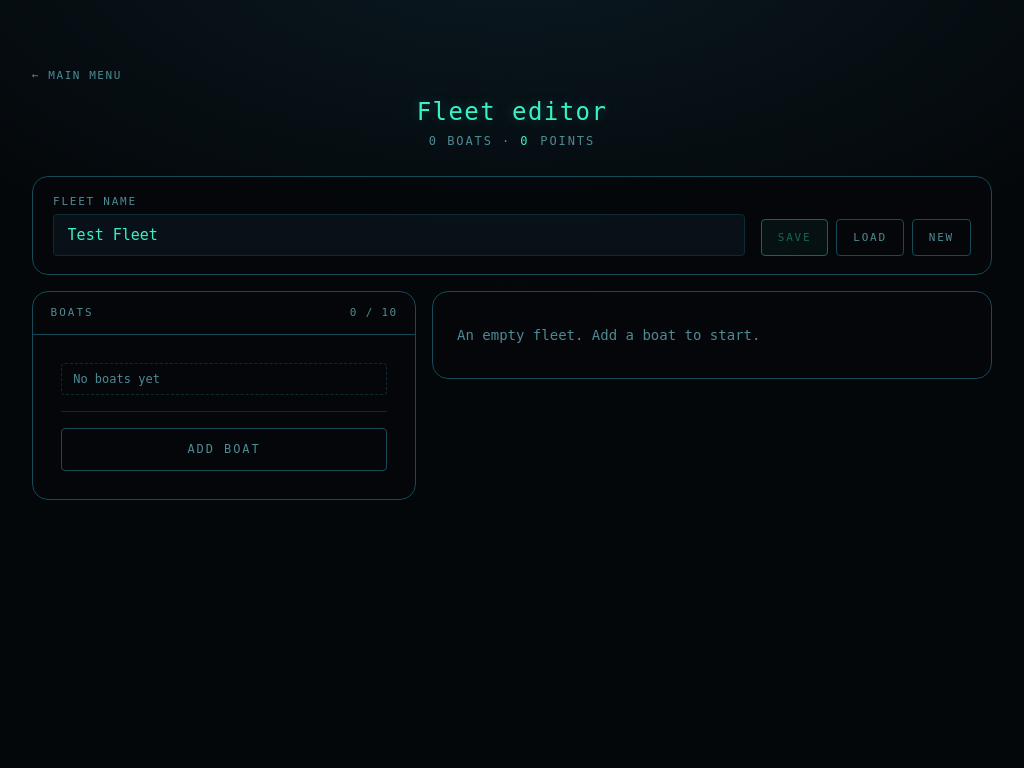
Test: adding boats › offers every hull, with its cost
What coordinates should you click on to do the following:
click the button "ADD BOAT"
I would click on:
 (224, 449)
Its box is [61,428,387,471].
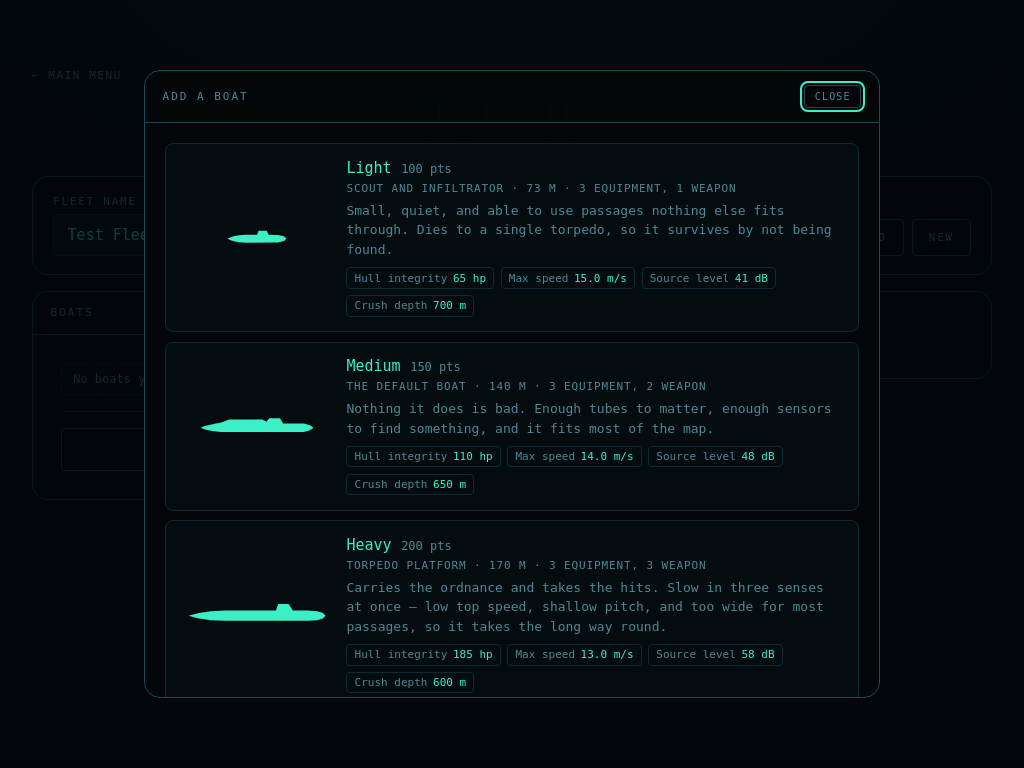
Expected: the button "Light" is shown, [165,143,859,332]
Expected: the button "Medium" is shown, [165,342,859,511]
Expected: the button "Heavy" is shown, [165,520,859,697]
